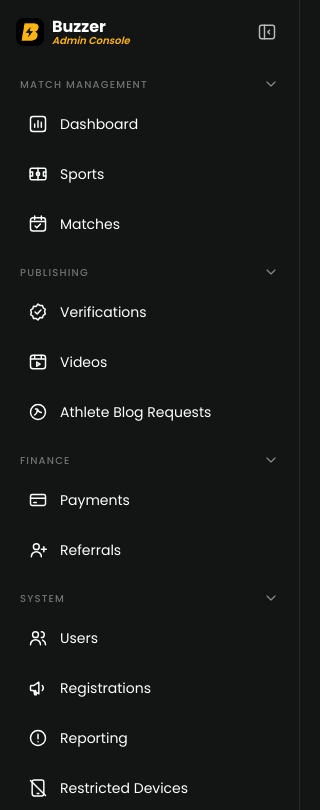
Test: SidebarComponent › should hide a group links when its header is clicked
Click the button with class "sidebar__group-header" showing "Match Management".
click(150, 84)  # box [12,72,287,96]
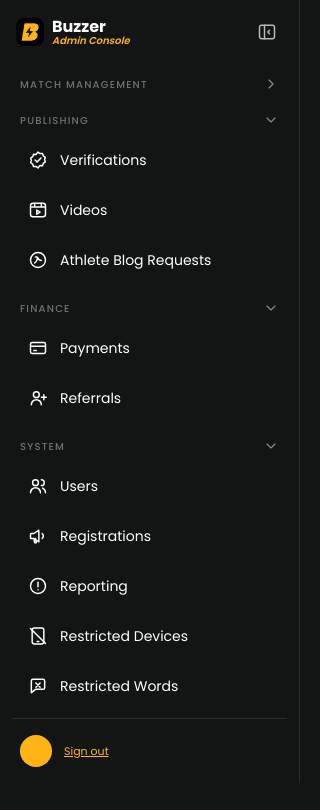
Now the number of links with class "sidebar__link" is 10
